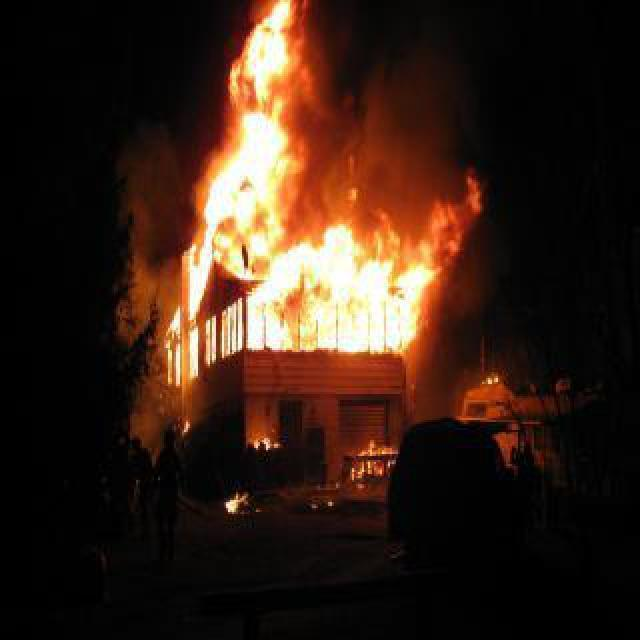Fire: (178, 19, 450, 359), (348, 440, 398, 492), (250, 426, 282, 458), (220, 488, 248, 524), (472, 370, 504, 396)
